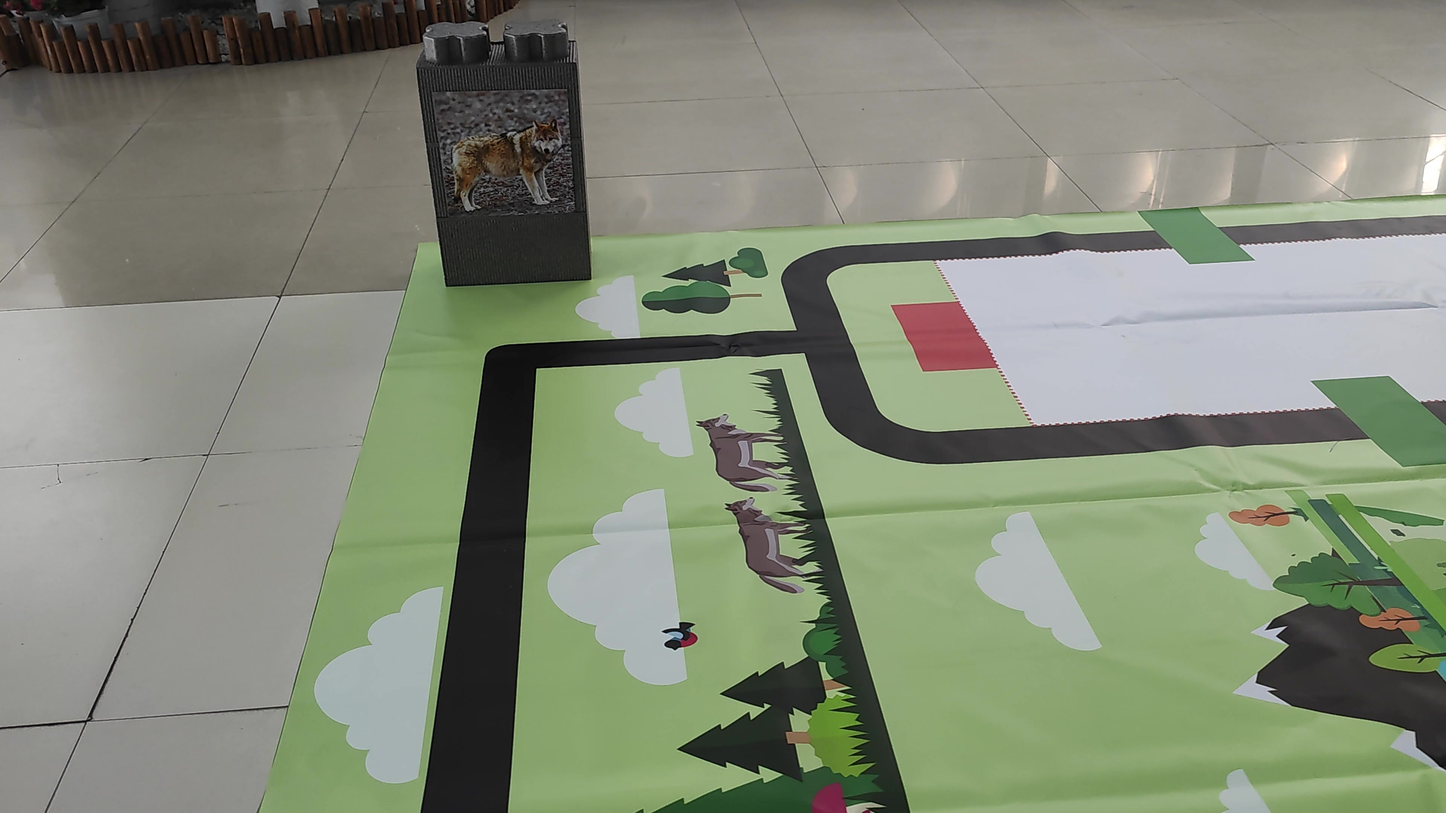wolf: (432, 110, 583, 227)
